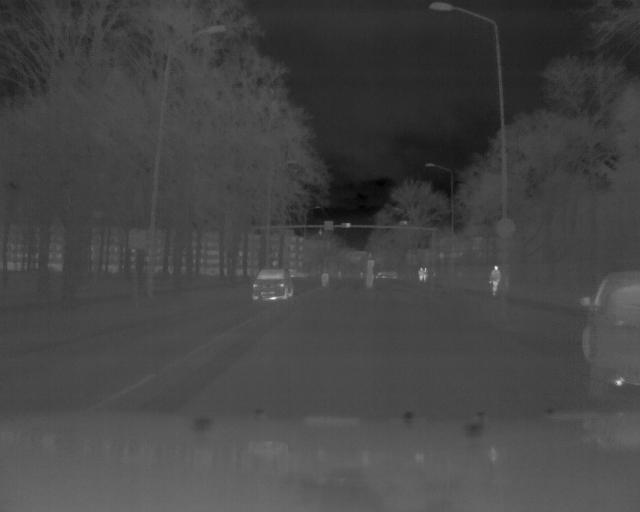car: (584, 269, 640, 399), (251, 267, 295, 302)
person: (489, 263, 501, 300), (418, 265, 427, 284)
